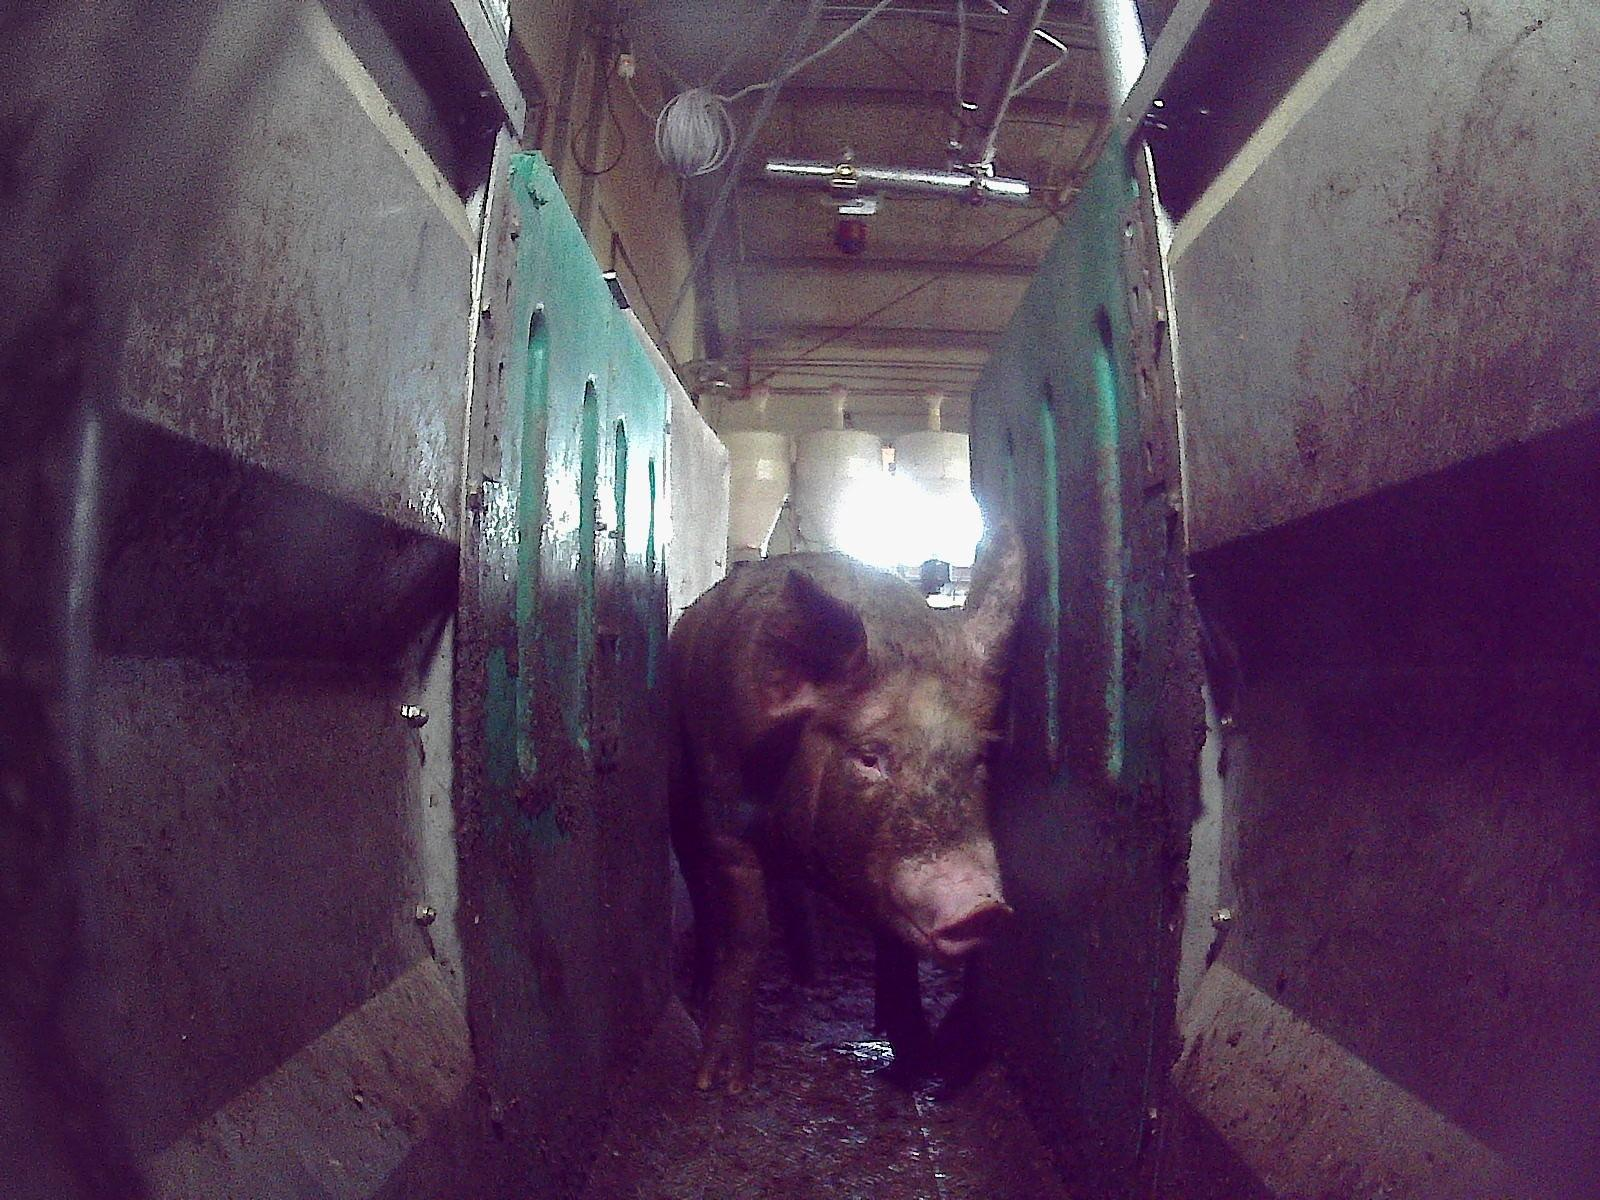Face: (763, 653, 1011, 957)
